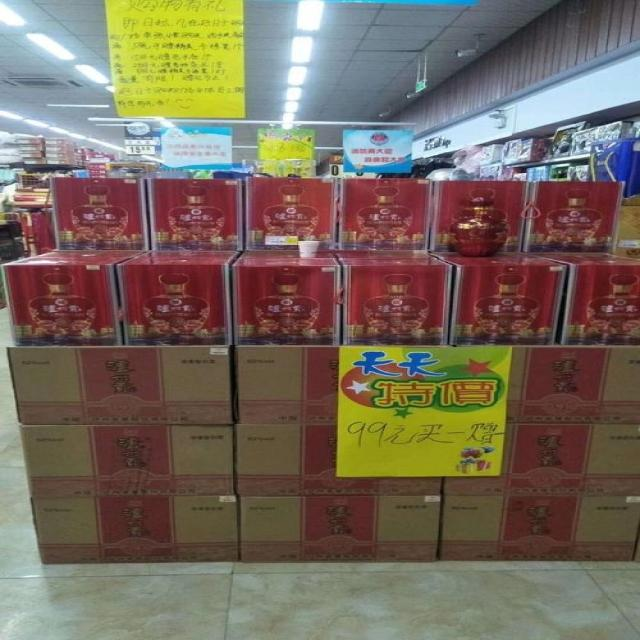box: (7, 347, 236, 425), (235, 345, 449, 427), (19, 425, 234, 497), (232, 424, 448, 495), (448, 346, 639, 424), (31, 495, 242, 564), (444, 424, 639, 497), (238, 495, 442, 561), (442, 497, 639, 561)
